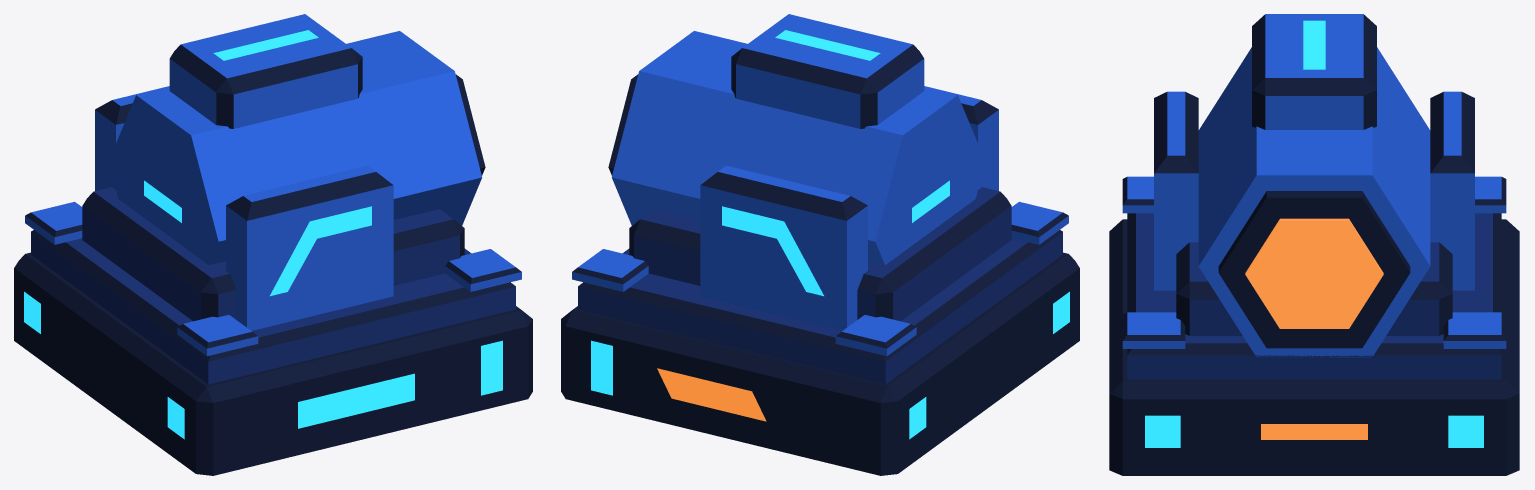
Rendered from energy_source.glb.
3 views of the same model, side by side, from view 1: azimuth 30°, elevation 25°; view 2: azimuth 150°, elevation 25°; view 3: azimuth 270°, elevation 25° (orthographic). The views are drawn at different scales.
Visible parts, largest first — view 1: Source_Body, Source_Lights; view 2: Source_Body, Source_Lights; view 3: Source_Body, Source_Lights.
Boxes of the visible parts, x1,y1,x2,y2 form: Source_Body: (14, 14, 532, 475); Source_Lights: (24, 30, 502, 439); Source_Body: (561, 14, 1079, 475); Source_Lights: (591, 30, 1069, 439); Source_Body: (1109, 14, 1519, 475); Source_Lights: (1145, 20, 1483, 447).
Size of the model in its own units: 0.927 by 0.842 by 0.924.
